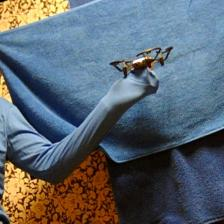drone: (107, 44, 174, 78)
